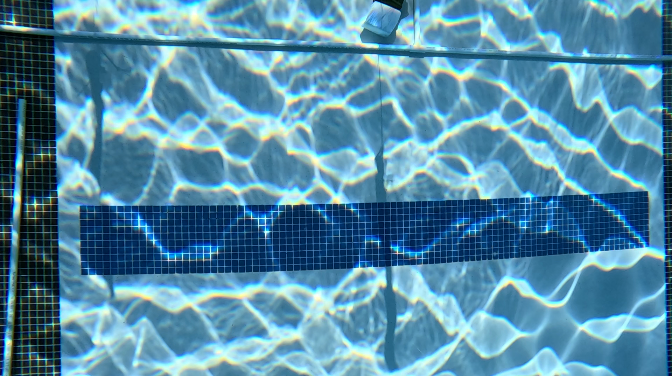sandbag: (363, 0, 402, 35)
